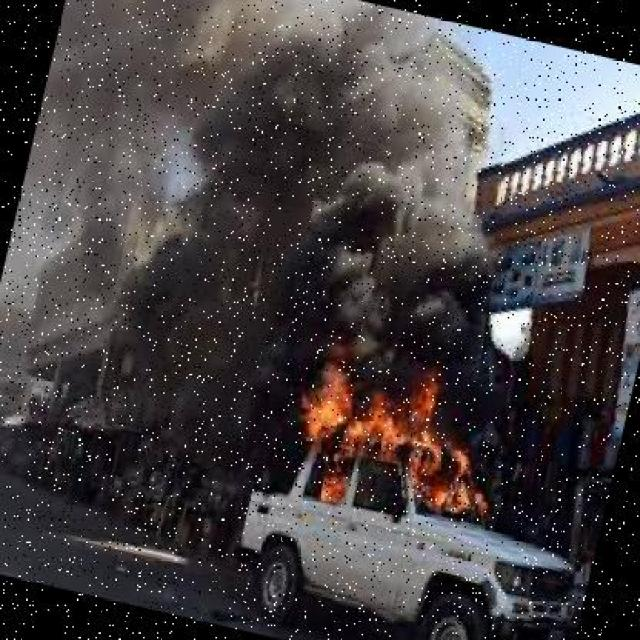fire: (276, 325, 536, 549)
